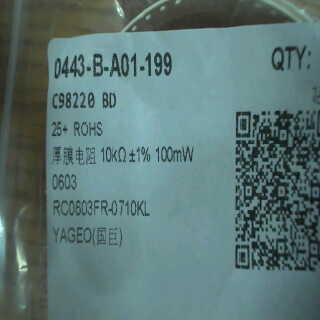10kR: (100, 143, 129, 166)
